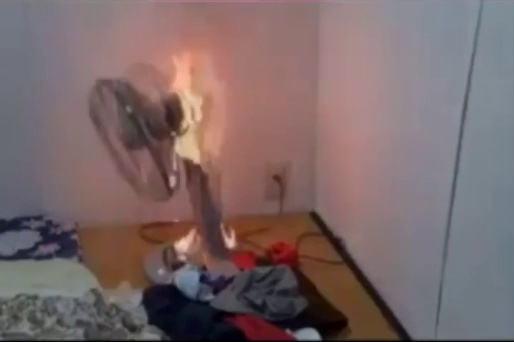fire: (162, 46, 221, 167)
